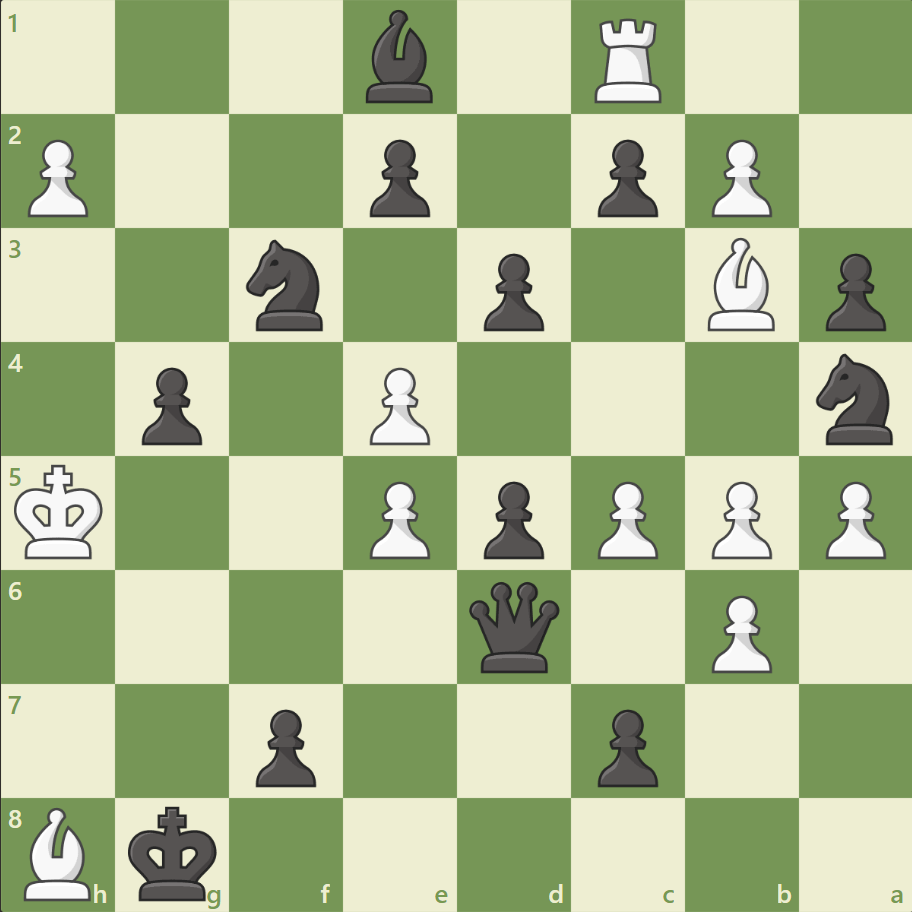B: (17, 801, 101, 904), (698, 233, 782, 336)
K: (11, 458, 111, 566)
P: (701, 586, 776, 677), (701, 473, 776, 564), (701, 132, 776, 223), (20, 132, 95, 223), (815, 473, 889, 564), (588, 473, 662, 564), (361, 473, 435, 564), (361, 359, 435, 450)
R: (587, 12, 670, 109)
b: (358, 6, 442, 109)
k: (124, 798, 224, 906)
n: (238, 234, 335, 337), (806, 348, 903, 450)
p: (247, 700, 322, 791), (474, 473, 549, 564), (133, 359, 208, 450), (474, 246, 549, 337), (588, 700, 662, 791), (815, 246, 889, 337), (588, 132, 662, 223), (361, 132, 435, 223)
q: (464, 576, 563, 676)
